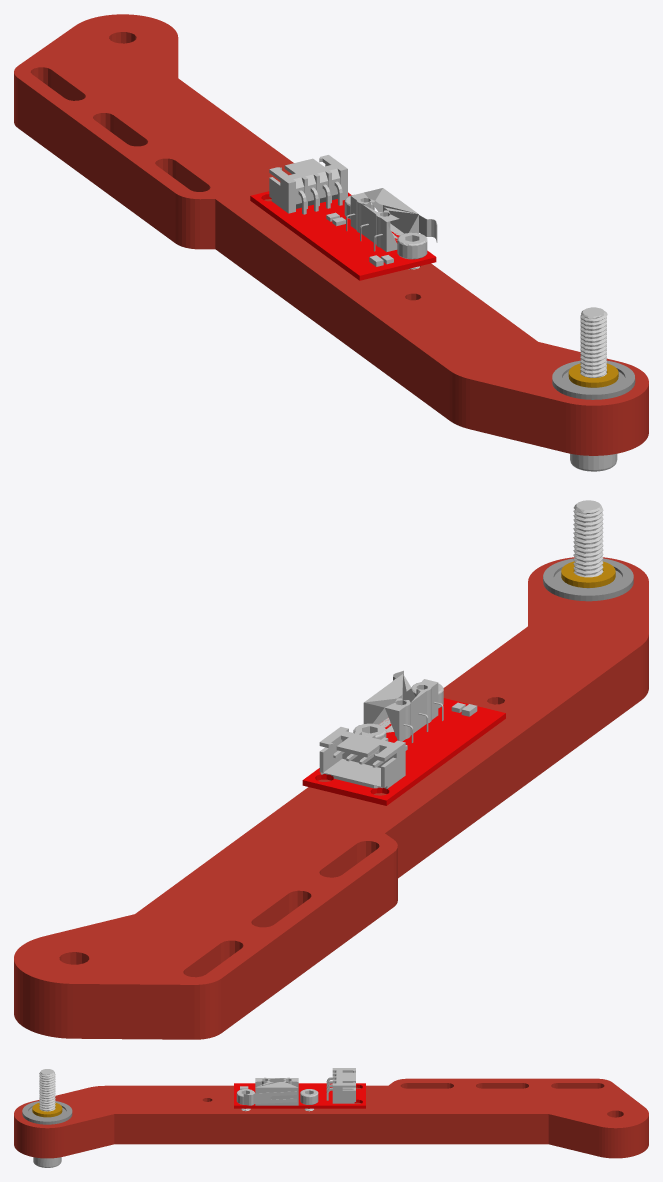
Rendered from visual_link_j3_rod.dae.
The picture shows the model from 3 angles, top to bottom: view 1: azimuth 30°, elevation 25°; view 2: azimuth 150°, elevation 25°; view 3: azimuth 270°, elevation 25°; orthographic projection. The views are drawn at different scales.
Parts seen in each view (by area): view 1: node2, node10, node8, node7, node4, node3, node6, node0; view 2: node2, node10, node8, node7, node4, node3, node0; view 3: node2, node10, node7, node8, node4, node3, node5, node0, node6.
Boxes of the visible parts, x1,y1,x2,y2 form: node2: (14, 14, 648, 455); node10: (250, 191, 436, 280); node8: (269, 155, 347, 214); node7: (346, 188, 437, 251); node4: (570, 307, 617, 471); node3: (552, 360, 635, 399); node6: (397, 232, 427, 269); node0: (568, 363, 618, 387); node2: (14, 557, 648, 1039); node10: (302, 698, 505, 805); node8: (319, 727, 405, 788); node7: (363, 670, 443, 742); node4: (573, 500, 603, 577); node3: (543, 558, 633, 601); node0: (561, 561, 615, 587); node2: (14, 1078, 648, 1158); node10: (234, 1083, 365, 1108); node7: (243, 1077, 298, 1105); node8: (326, 1068, 355, 1103); node4: (33, 1069, 61, 1167); node3: (22, 1101, 72, 1124); node5: (300, 1089, 318, 1111); node0: (32, 1102, 62, 1117); node6: (236, 1089, 254, 1111).
Bounding box in the file's own units: 0.035 × 0.19 × 0.03.
